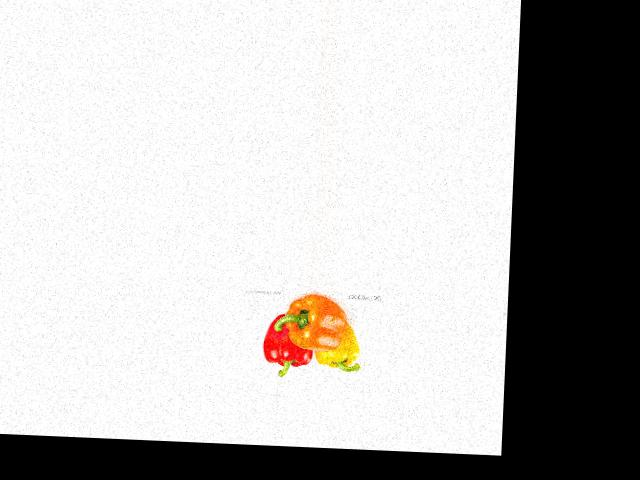bell_pepper: (312, 320, 364, 375)
